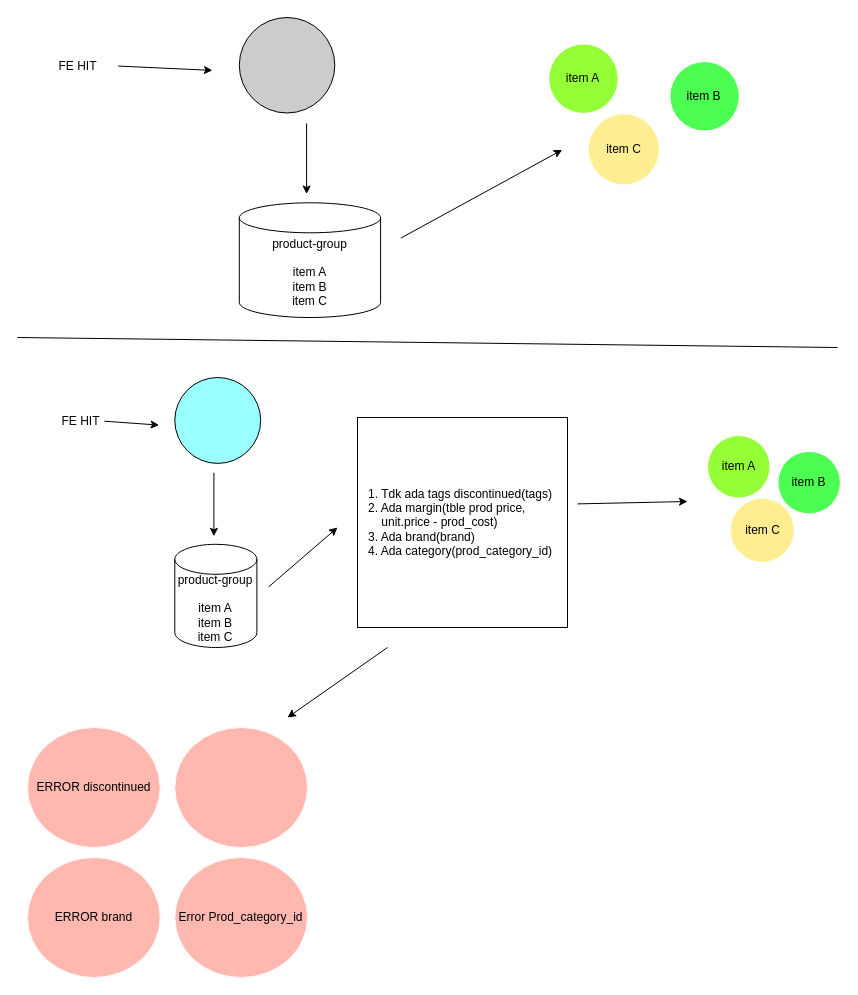
This 858x995 diagram has some shape labels left out. Here are the shapes that lost their labels. From the top down, the box of each, then its label:
(238, 16, 335, 113): AVAILABLE OFF
(174, 376, 261, 463): AVAILABLE ON
(174, 726, 308, 848): ERROR margin
